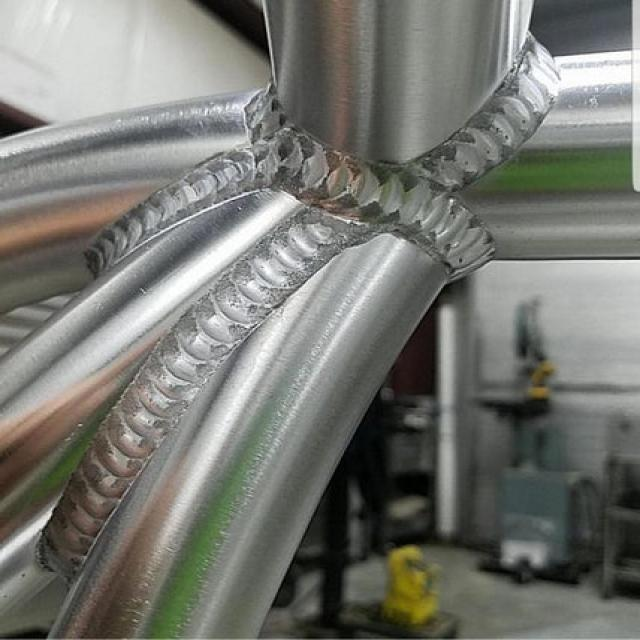Good Weld: (232, 94, 506, 280), (82, 281, 271, 524), (82, 168, 229, 276)
